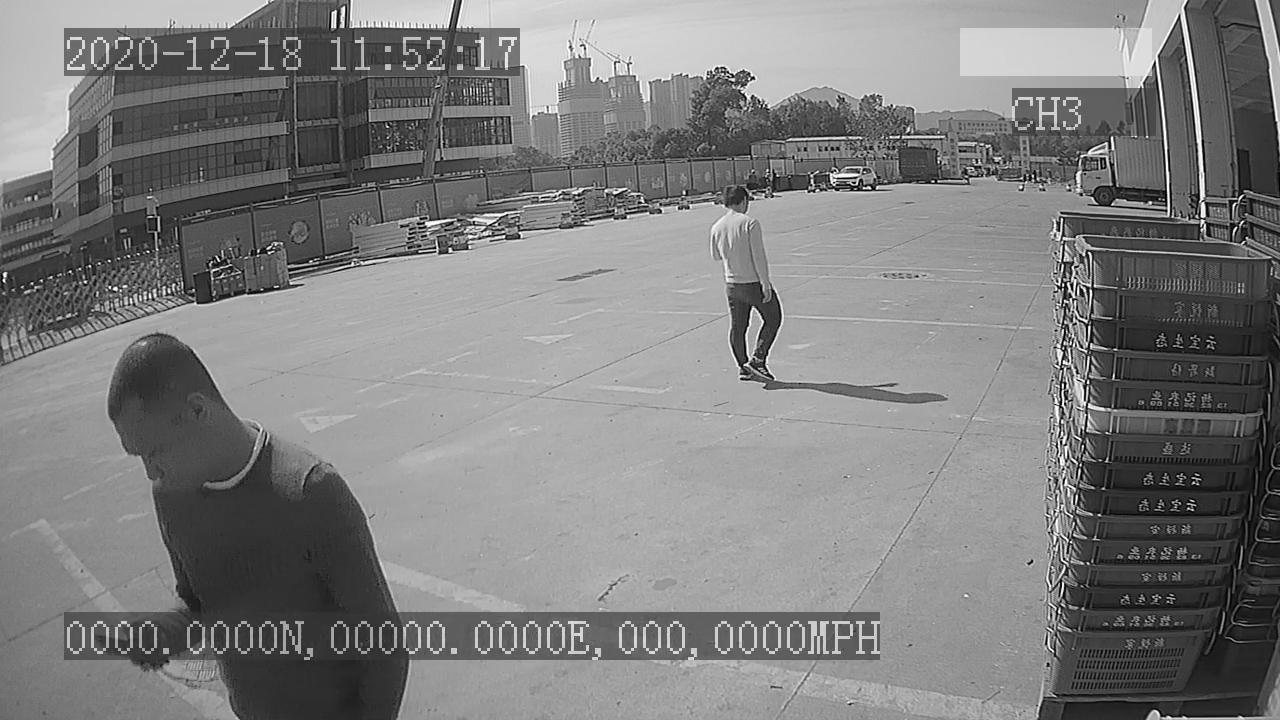person: (701, 183, 786, 388)
